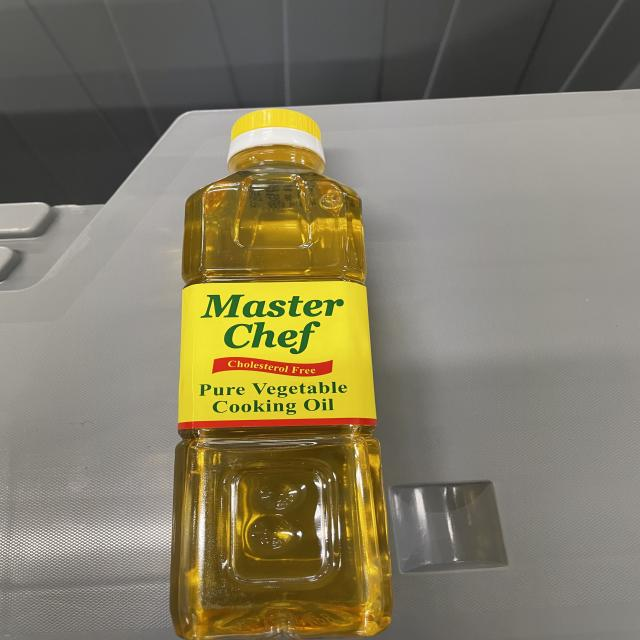object_name: (177, 108, 380, 640)
